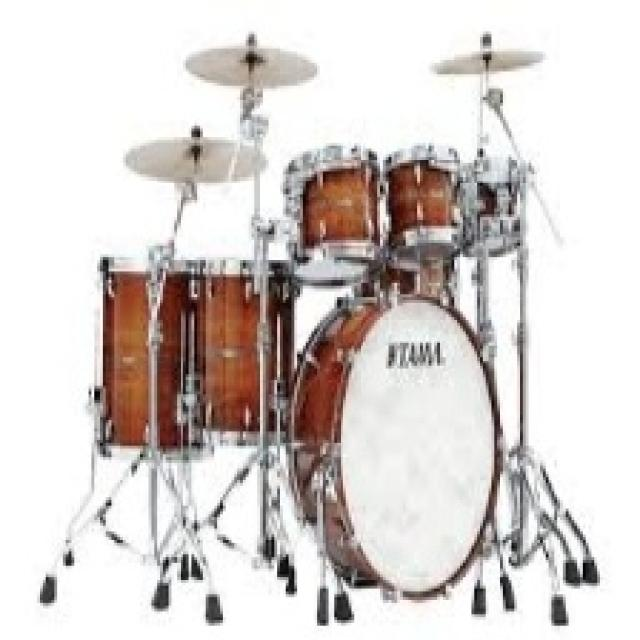drums: (10, 28, 631, 621)
